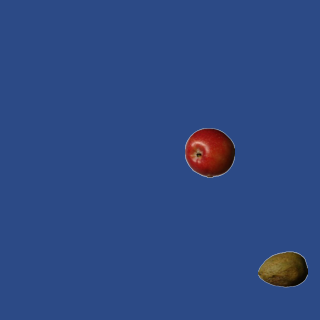Apple Braeburn: (184, 127, 234, 177)
Papaya: (257, 244, 307, 294)
